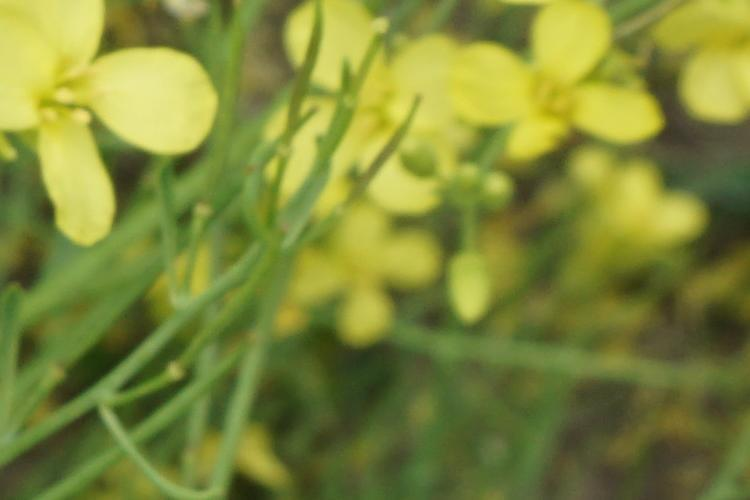bud: (450, 250, 496, 325), (385, 141, 449, 185), (478, 165, 522, 213), (453, 162, 480, 207)
yellow: (9, 5, 208, 253), (454, 16, 670, 169), (295, 210, 446, 348)
